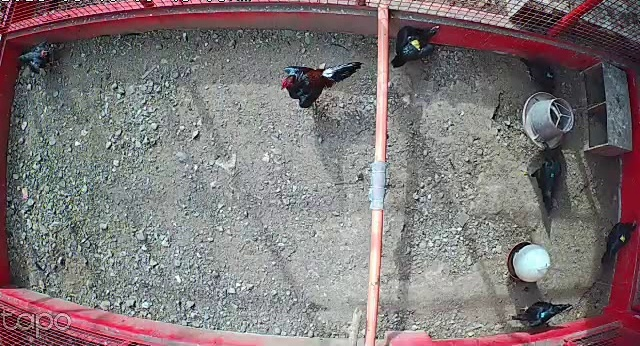Chicken: (521, 142, 564, 213), (387, 19, 445, 71), (504, 295, 572, 329), (13, 35, 63, 78), (599, 218, 638, 266), (516, 53, 559, 95)
Rooster: (280, 53, 361, 114)
Saddle_Color_Blue: (539, 312, 545, 318)
Saddle_Color_Yellow: (408, 34, 420, 51)
